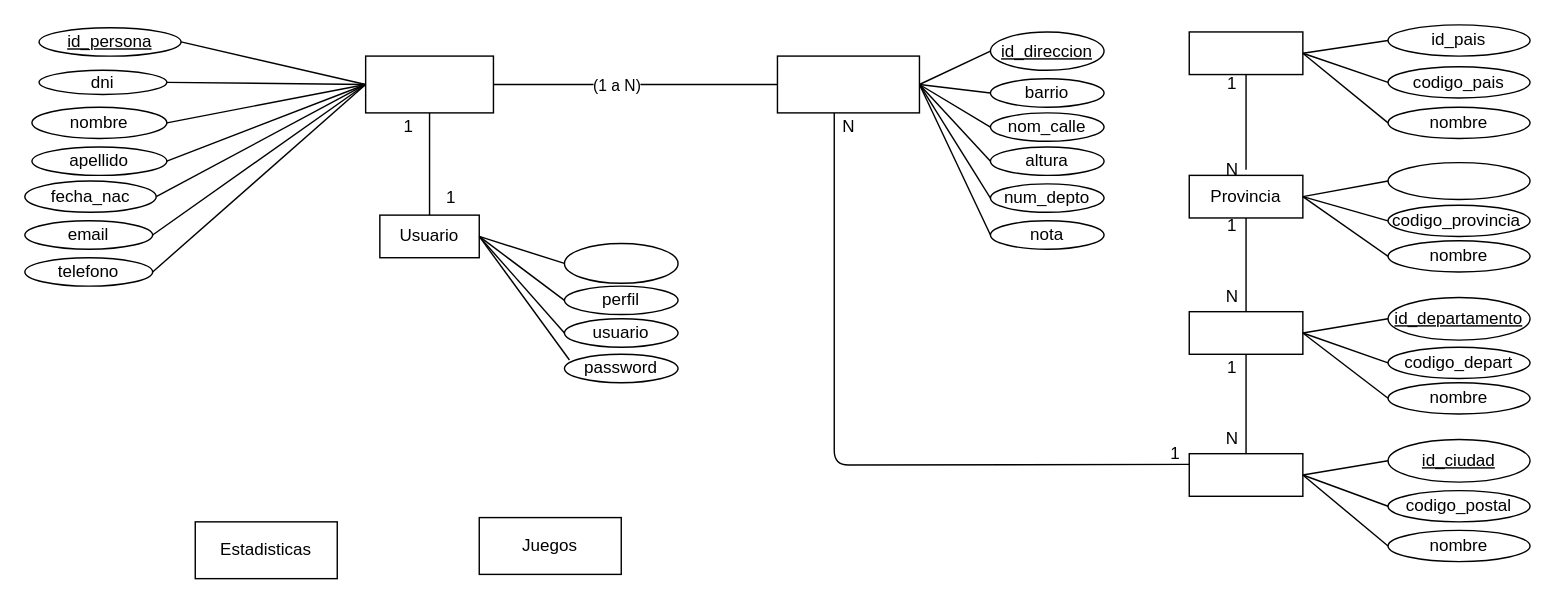
This 1555x604 diagram has some shape labels left out. Here are the shapes that lost their labels. From the top down, the centre of each, then its label:
At point (1245, 53): "País".
At point (428, 84): "Persona".
At point (847, 84): "Dirección".
At point (1458, 180): "id_provincia".
At point (620, 262): "id_usuario".
At point (1245, 332): "Departamento".
At point (1245, 474): "Ciudad".
